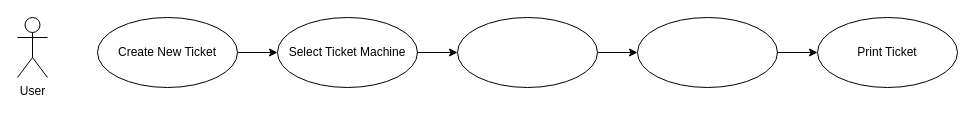
The diagram is 975 pixels wide and 116 high, and some of its shapes have lost their labels. Here are the shapes that lost their labels. From the top down, the centre of each, then its label:
At (x=527, y=52): "Select Station to go to".
At (x=707, y=52): "Pay for ticket".
